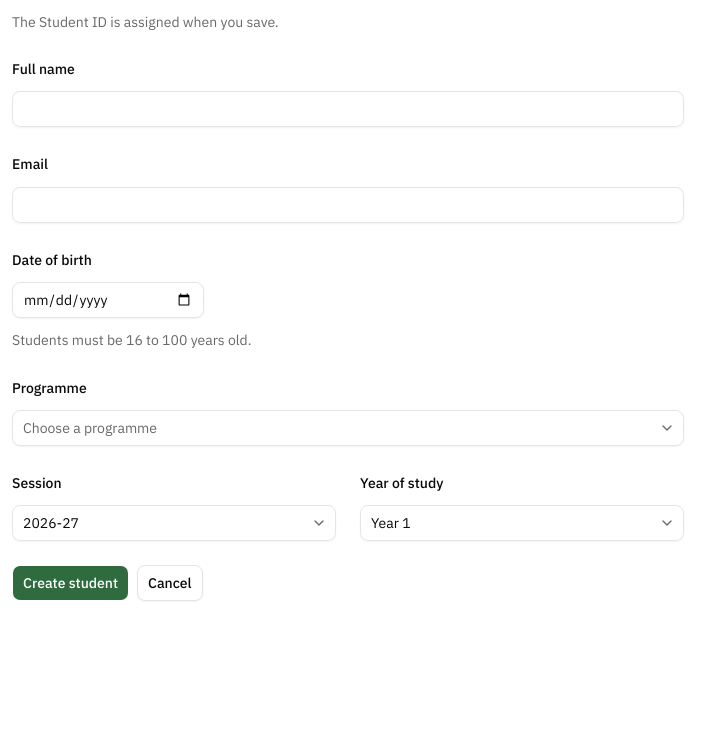
it: new student form: validation › rejects a malformed email
Type "not-an-email" into the field labelled "Email". click: point(348, 204)
box: [12,186,684,222]
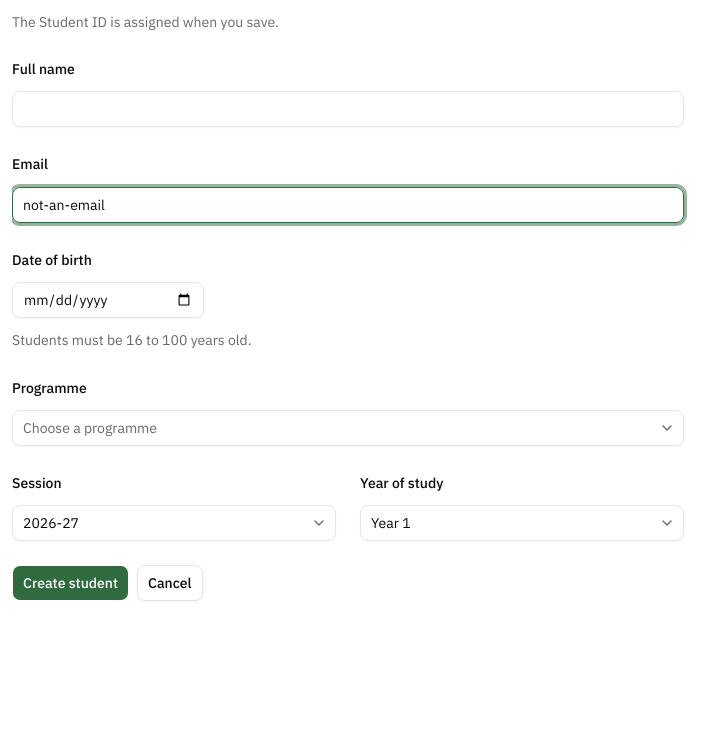
Click the button "Create student". click: point(70, 583)
box: [12,565,129,601]
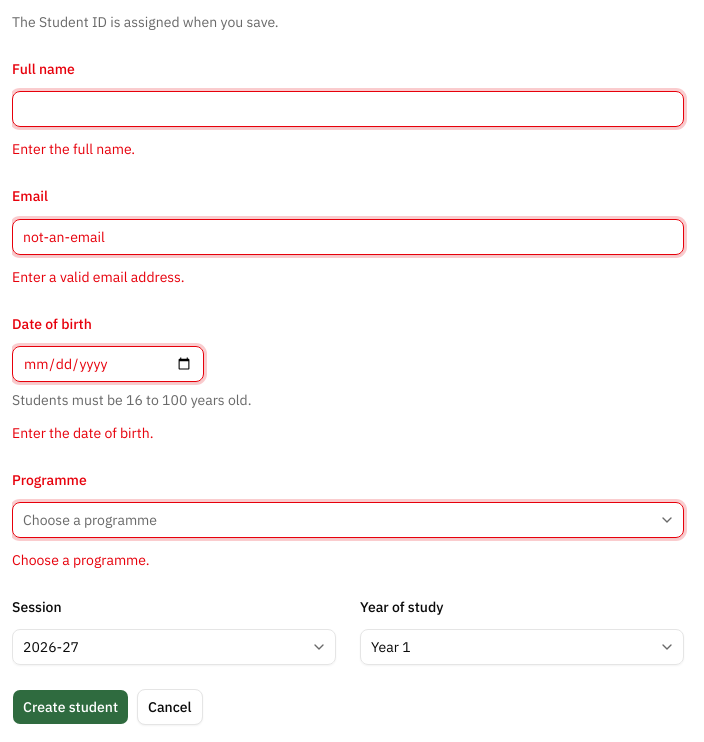
Result: the text "Enter a valid email address." is shown at [12,268,185,286]
